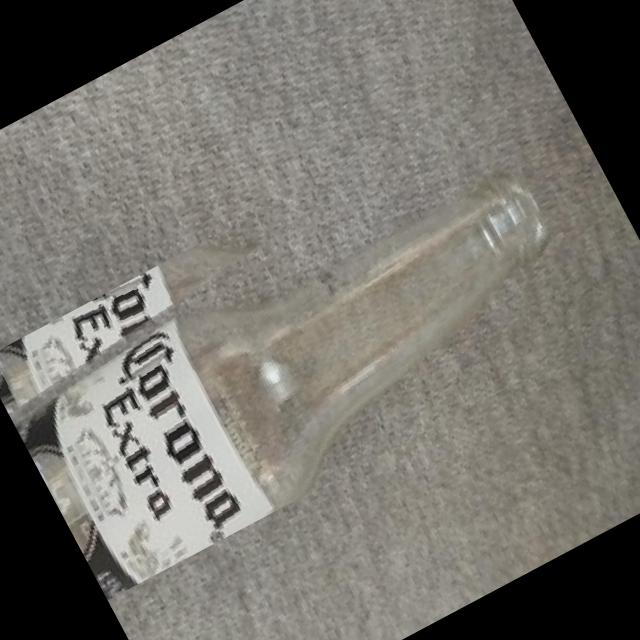Glass: (0, 91, 611, 598), (0, 97, 596, 596)
